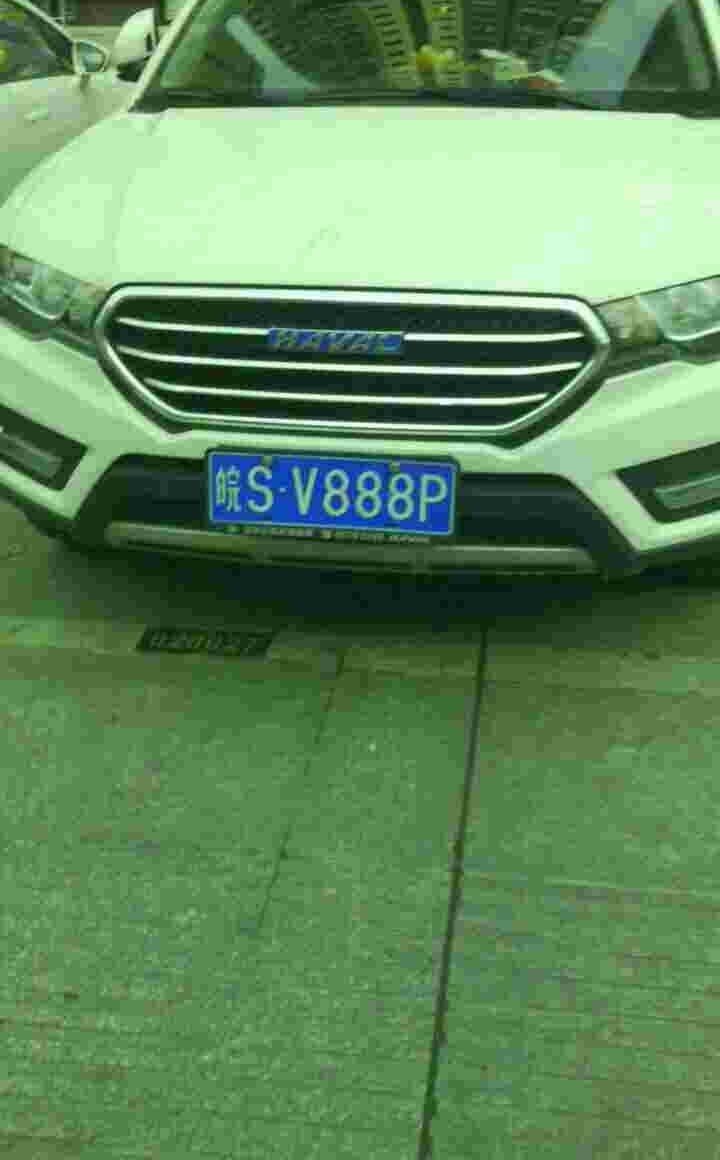car: (199, 442, 453, 539)
